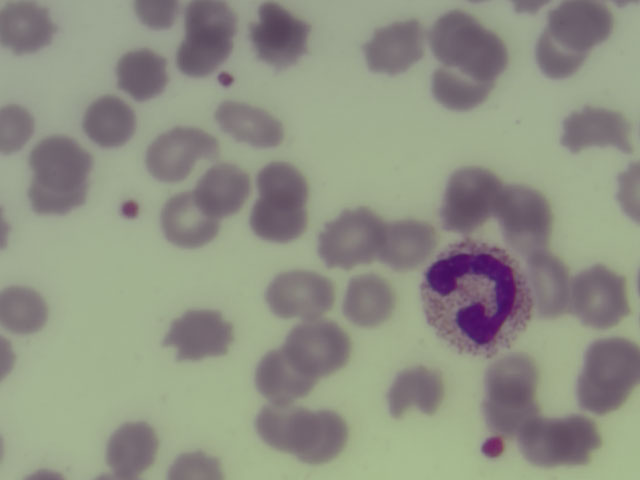Platelets: (114, 194, 145, 224), (480, 433, 507, 463), (213, 68, 240, 91)
RBC: (557, 104, 636, 152), (525, 250, 573, 318), (343, 275, 397, 326), (290, 321, 344, 372), (255, 352, 309, 403), (256, 396, 310, 447), (389, 369, 443, 420), (556, 417, 610, 468), (515, 417, 569, 468), (486, 385, 540, 436), (485, 351, 539, 402), (576, 365, 630, 416), (586, 335, 640, 386), (572, 271, 626, 322), (504, 194, 558, 245), (443, 171, 497, 222), (436, 66, 490, 117), (460, 28, 514, 79), (426, 10, 480, 61), (368, 23, 422, 74), (104, 424, 158, 475), (173, 306, 227, 357), (199, 162, 253, 213), (158, 195, 212, 246), (147, 130, 201, 181), (227, 96, 281, 147), (255, 12, 309, 63), (177, 23, 231, 74), (29, 169, 83, 220), (33, 132, 87, 183), (84, 96, 138, 147), (115, 47, 169, 98), (253, 194, 307, 245), (379, 214, 433, 265), (325, 212, 379, 263), (272, 269, 326, 320), (257, 154, 311, 205), (1, 284, 54, 335), (533, 33, 590, 80), (1, 1, 54, 51), (551, 1, 612, 43), (298, 415, 349, 460), (609, 162, 640, 229), (186, 1, 240, 36), (1, 101, 36, 154), (168, 448, 224, 480), (131, 1, 181, 29)
WBC: (421, 246, 527, 353)
